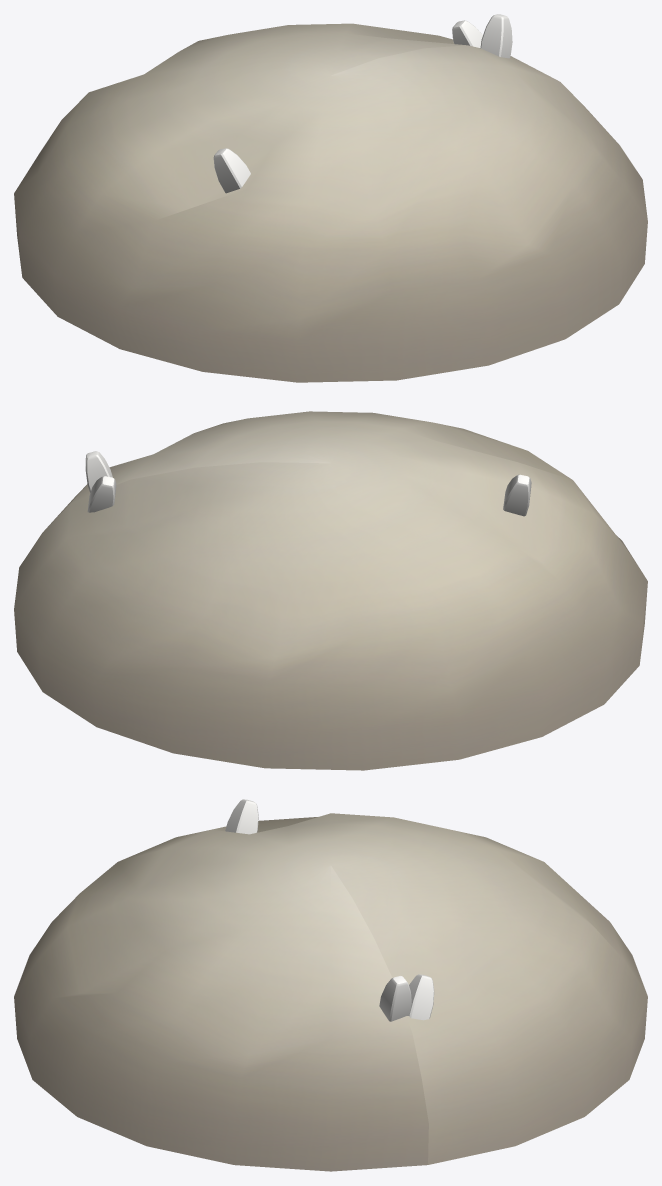
File: Rice-UV.fbx
The picture shows the model from 3 angles, top to bottom: view 1: azimuth 30°, elevation 25°; view 2: azimuth 150°, elevation 25°; view 3: azimuth 270°, elevation 25°; orthographic projection.
Parts seen in each view (by area): view 1: pSphere1, pCube18, pCube5, pCube20; view 2: pSphere1, pCube18, pCube20, pCube5; view 3: pSphere1, pCube5, pCube20, pCube18.
Boxes of the visible parts, left/top/right/bottom form: pSphere1: left=14, top=23, right=647, bottom=382; pCube18: left=213, top=148, right=250, bottom=193; pCube5: left=480, top=14, right=512, bottom=58; pCube20: left=452, top=20, right=482, bottom=47; pSphere1: left=14, top=411, right=647, bottom=770; pCube18: left=503, top=474, right=531, bottom=516; pCube20: left=87, top=476, right=116, bottom=512; pCube5: left=85, top=451, right=112, bottom=492; pSphere1: left=14, top=813, right=647, bottom=1171; pCube5: left=379, top=976, right=411, bottom=1021; pCube20: left=409, top=974, right=434, bottom=1020; pCube18: left=225, top=799, right=258, bottom=834.
Size of the model in its own units: 5.1 by 1.54 by 5.1.
